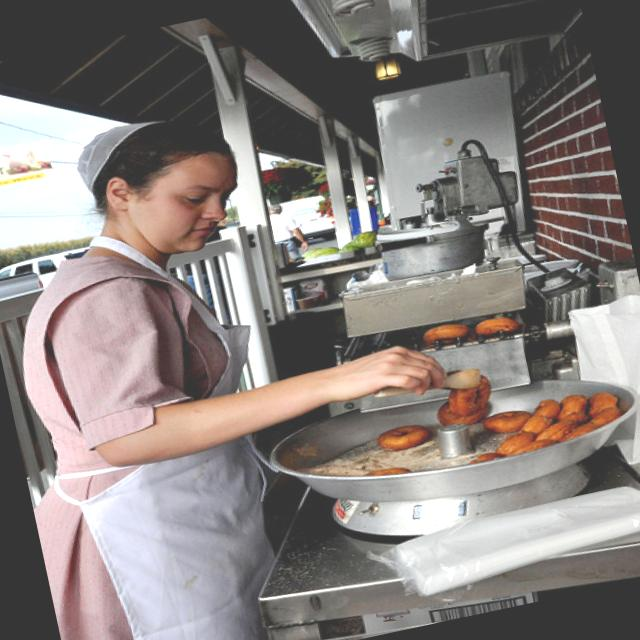Vehicle: (266, 190, 341, 250), (0, 246, 89, 296)
